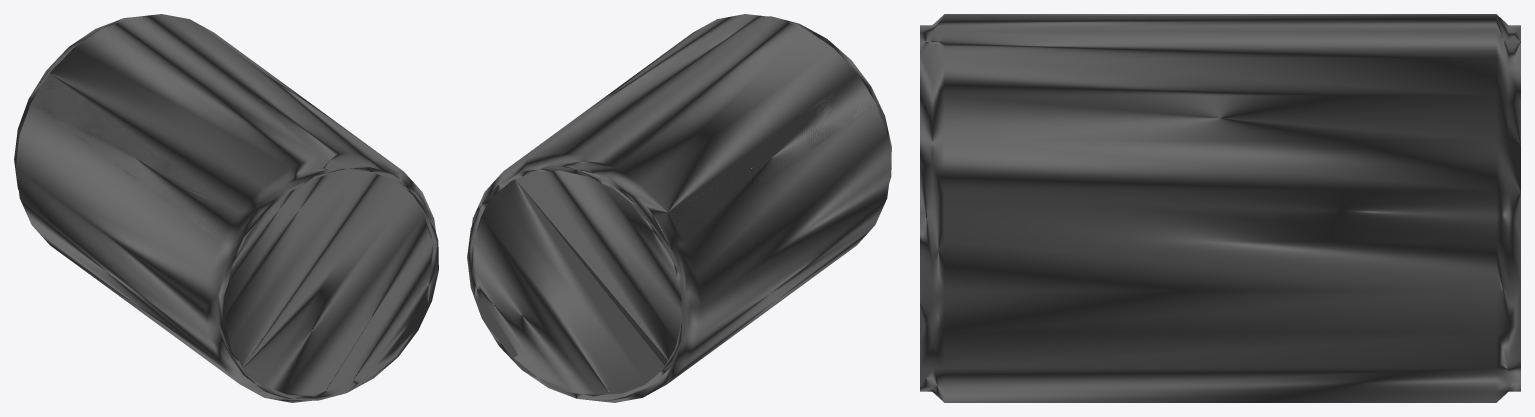
File: model_align.obj
3 renders of one model, left to right at view 1: azimuth 30°, elevation 25°; view 2: azimuth 150°, elevation 25°; view 3: azimuth 270°, elevation 25°, orthographic. The views are drawn at different scales.
Size of the model in its own units: 0.0649 by 0.0649 by 0.0998.
